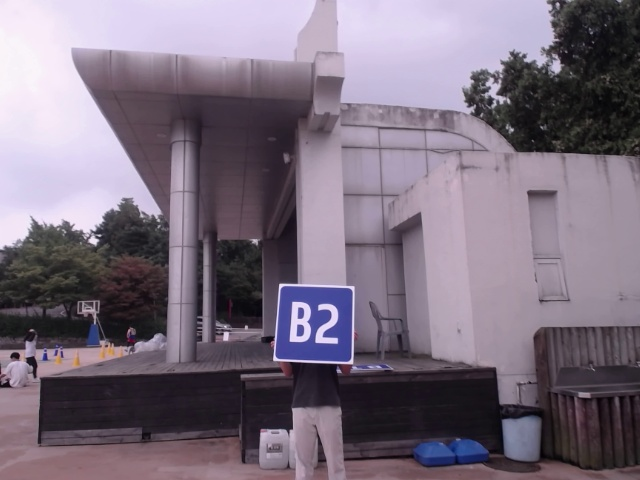delivery_b2: (278, 285, 352, 363)
